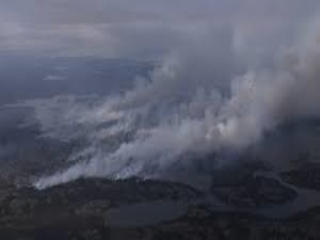smoke: (21, 59, 277, 188)
